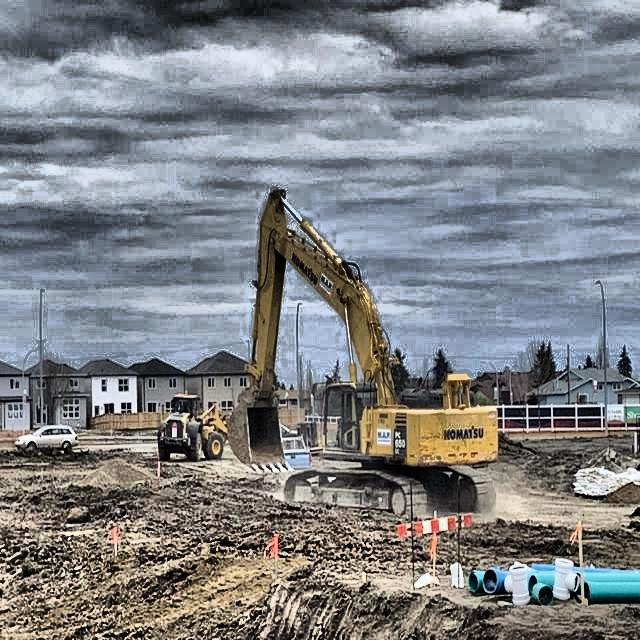bull_dozer/loader/grader: (156, 385, 225, 465)
excavator: (236, 186, 502, 538)
